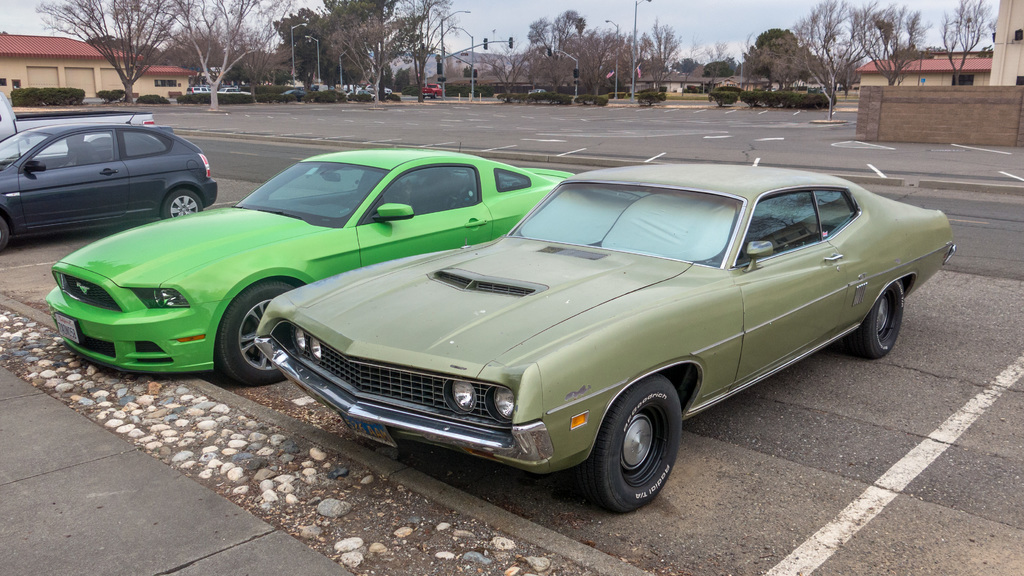Car: (256, 162, 957, 512), (40, 151, 581, 385), (0, 119, 221, 249), (188, 81, 398, 103), (0, 93, 22, 143), (417, 80, 443, 98)
